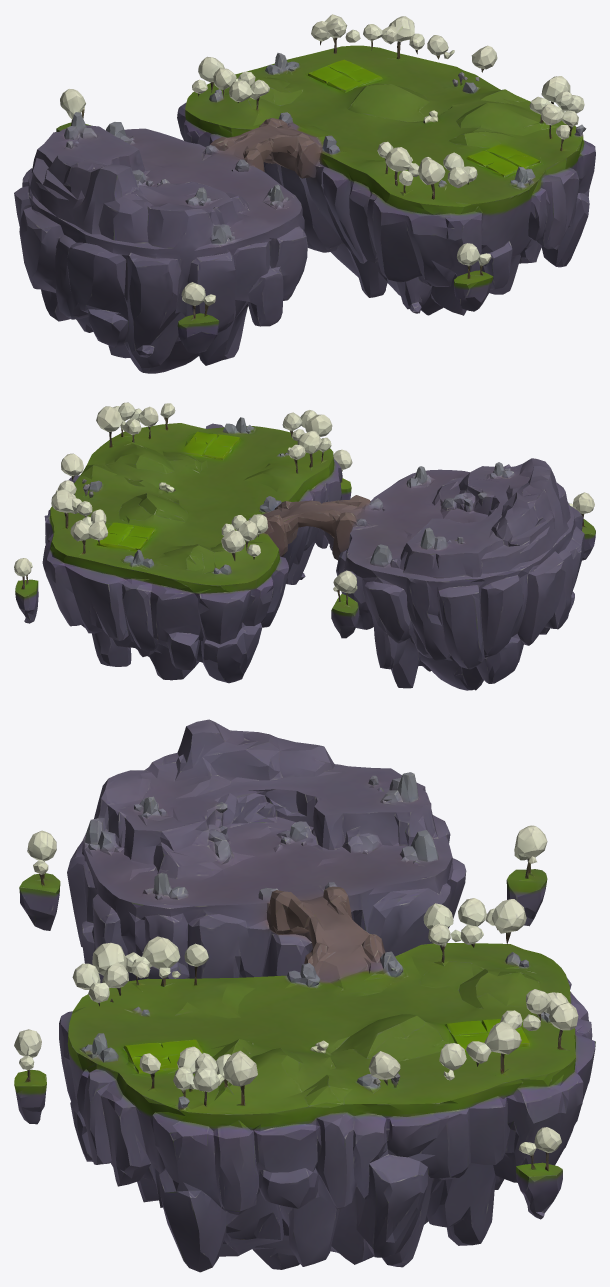
The model's file is stage_02.fbx.
The picture shows the model from 3 angles, top to bottom: view 1: azimuth 30°, elevation 25°; view 2: azimuth 150°, elevation 25°; view 3: azimuth 270°, elevation 25°; orthographic projection. The views are drawn at different scales.
Parts seen in each view (by area): view 1: model; view 2: model; view 3: model.
Boxes of the visible parts, left/top/right/bottom form: model: left=14, top=14, right=595, bottom=373; model: left=14, top=402, right=595, bottom=690; model: left=14, top=719, right=595, bottom=1272.
Size of the model in its own units: 189 by 86.59 by 141.
Materials: 1 (1 with a texture image).
